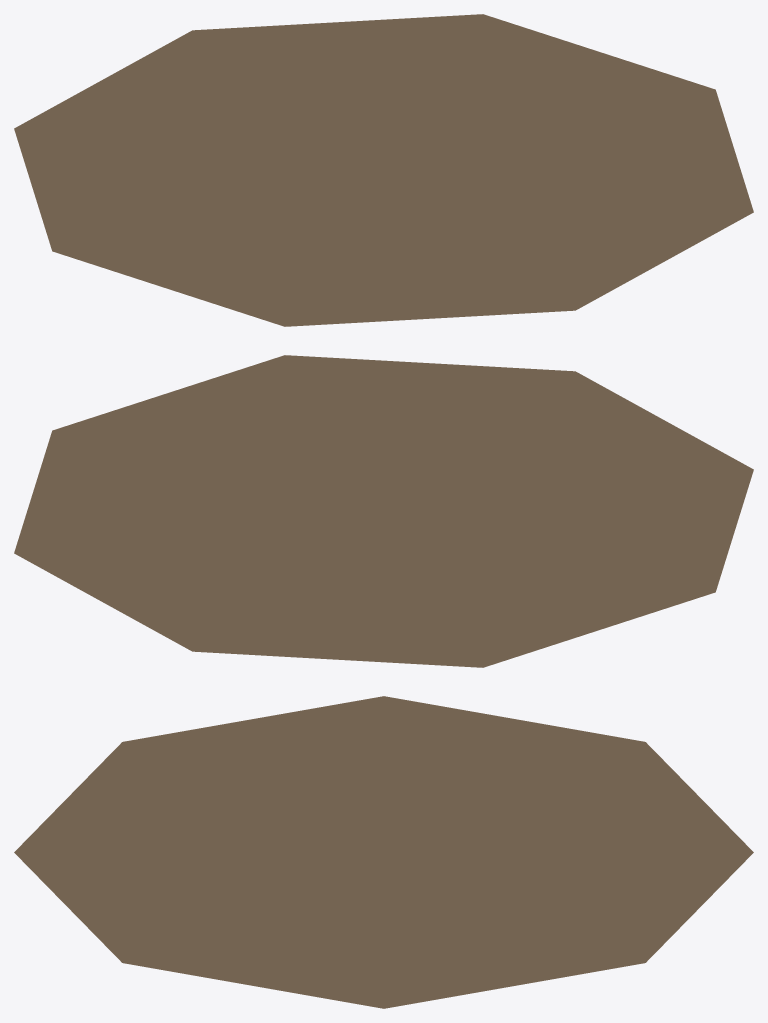
Rendered from shop_platform.fbx.
The picture shows the model from 3 angles, top to bottom: view 1: azimuth 30°, elevation 25°; view 2: azimuth 150°, elevation 25°; view 3: azimuth 270°, elevation 25°; orthographic projection. The views are drawn at different scales.
Visible parts, largest first — view 1: shop_platform; view 2: shop_platform; view 3: shop_platform.
Part boxes in pixels (x1,y1,x2,y2): shop_platform: (14, 14, 753, 326); shop_platform: (14, 355, 753, 667); shop_platform: (14, 696, 753, 1008).
Bounding box in the file's own units: 17.76 × 7.76e-07 × 17.76.
